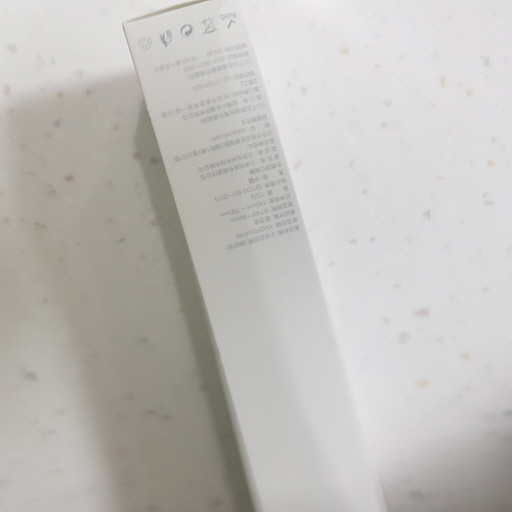Paper_0: (119, 1, 395, 512)
